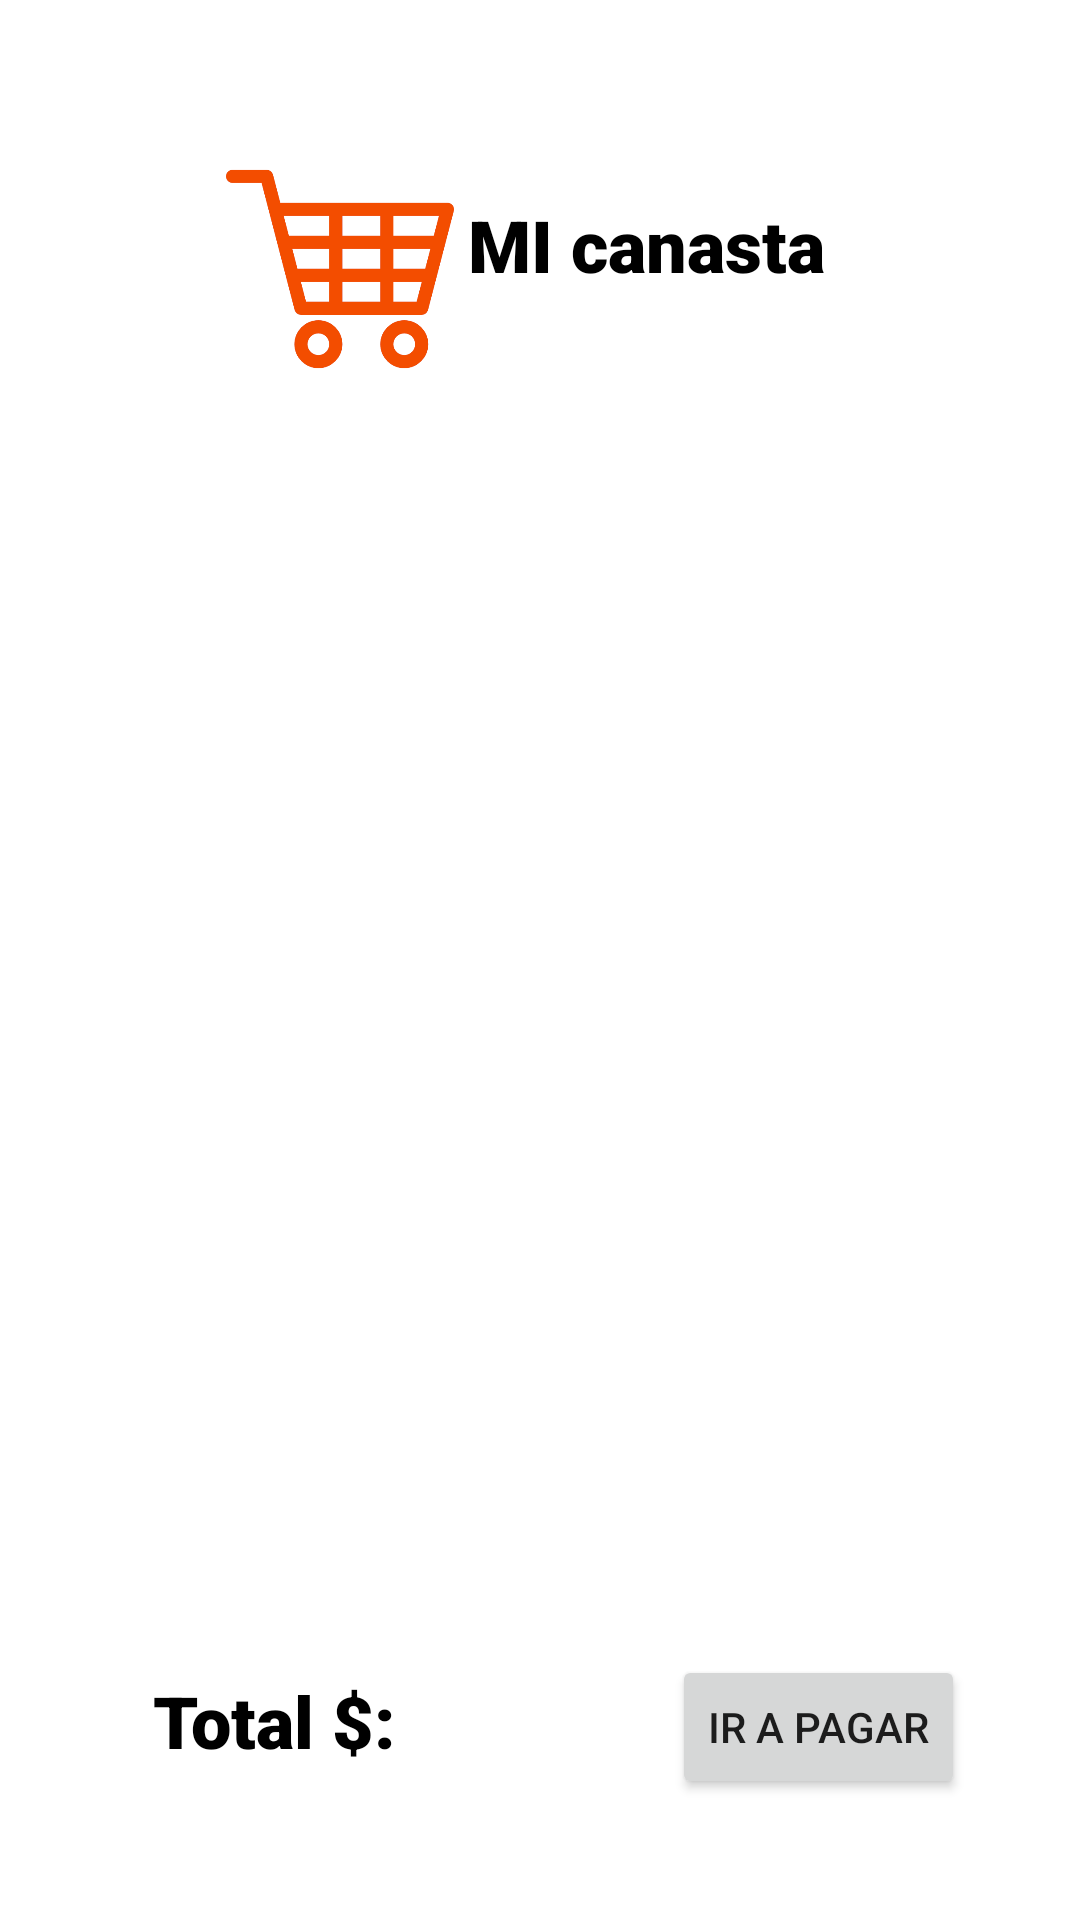

Named icons in this screenshot (1080 x 1920) and their bounding boxes, (x1, y1, x2, y2):
carrito: (226, 170, 454, 368)
